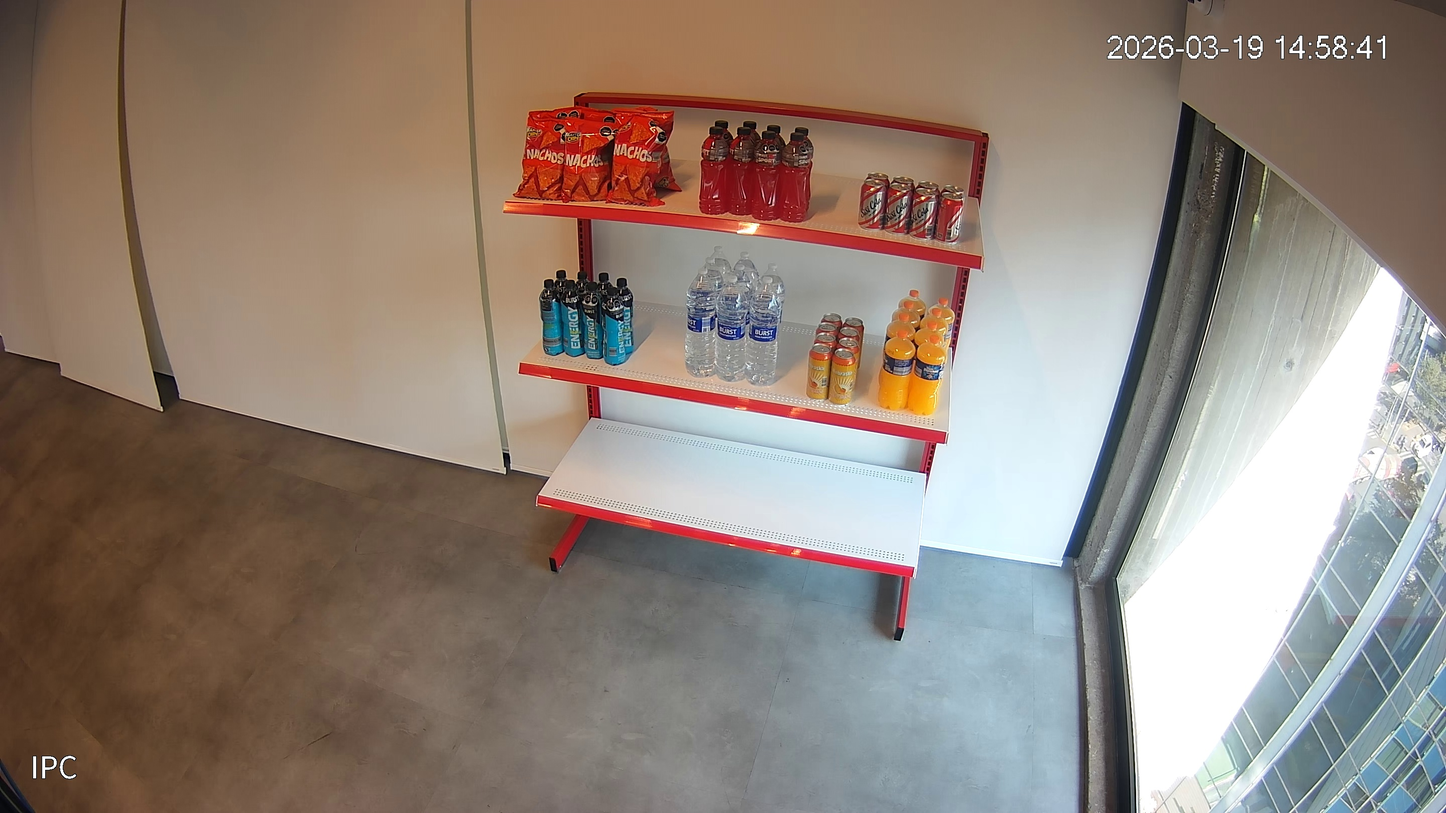agua_burst: (745, 277, 782, 385), (685, 268, 717, 378), (731, 251, 760, 290), (701, 257, 724, 299)
burst_energetica_roja: (699, 126, 728, 214), (728, 127, 757, 215), (795, 127, 813, 212), (767, 124, 786, 152)
burst_energy: (539, 279, 565, 356), (581, 281, 604, 359), (616, 278, 635, 355), (575, 271, 590, 298)
nachos_naturasol: (605, 110, 674, 206), (512, 114, 565, 201), (575, 105, 617, 123)
nebraska_mango: (805, 343, 832, 401), (836, 338, 860, 391), (842, 317, 864, 369), (816, 322, 838, 342)
sisi_cola: (909, 188, 939, 240), (858, 179, 886, 231), (940, 185, 965, 233), (891, 176, 915, 195)
sun_paradise_naranja: (877, 330, 916, 411), (908, 321, 944, 394), (927, 297, 955, 363), (891, 301, 920, 332)
